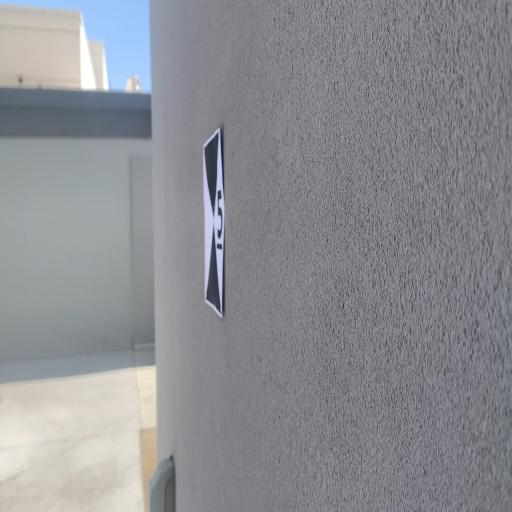target5: (200, 126, 226, 319)
